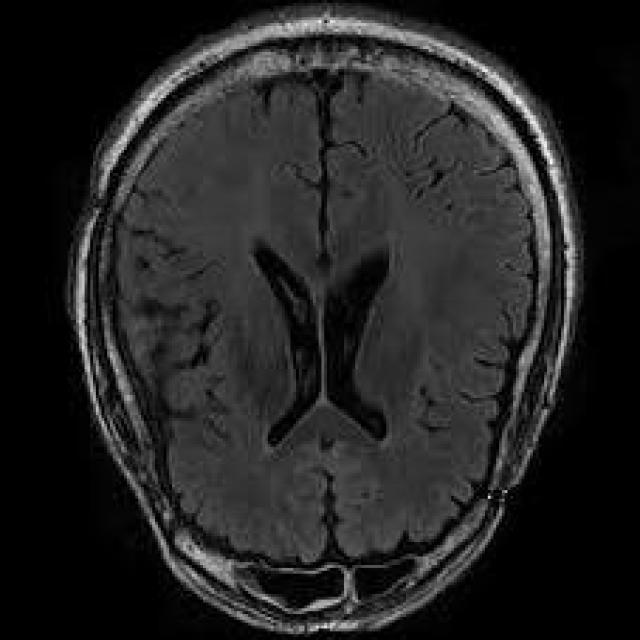notumor: (65, 12, 586, 637)
